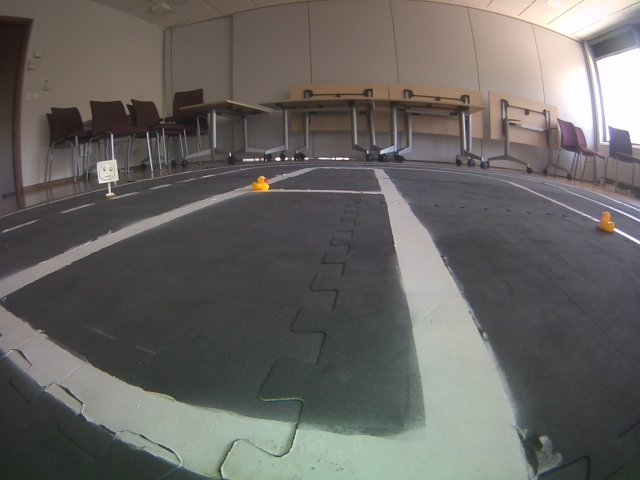Smiley: (95, 159, 121, 186)
